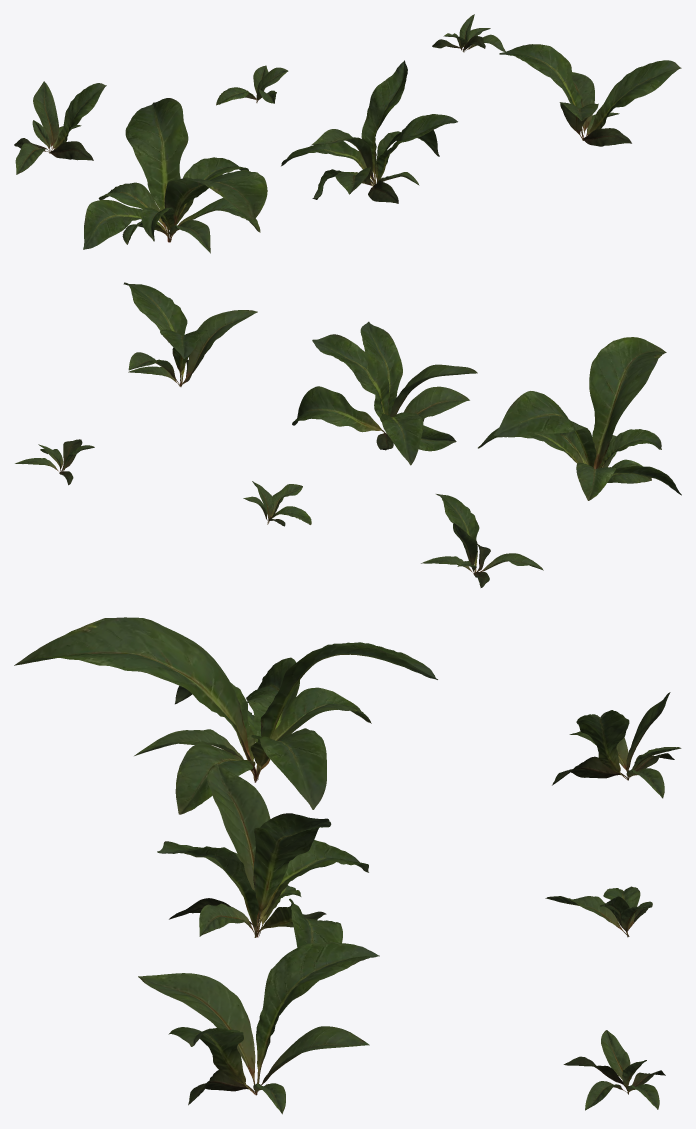
File: anthurium_botany_01.glb
The picture shows the model from 3 angles, top to bottom: view 1: azimuth 30°, elevation 25°; view 2: azimuth 150°, elevation 25°; view 3: azimuth 270°, elevation 25°; orthographic projection. The views are drawn at different scales.
Parts seen in each view (by area): view 1: anthurium_botany_01_a; view 2: anthurium_botany_01_a; view 3: anthurium_botany_01_a.
Boxes of the visible parts, left/top/right/bottom form: anthurium_botany_01_a: left=14, top=14, right=681, bottom=253; anthurium_botany_01_a: left=15, top=282, right=681, bottom=587; anthurium_botany_01_a: left=14, top=617, right=681, bottom=1114.
Bounding box in the file's own units: 2.8 × 0.4994 × 1.8.
1 material, 1 textured.
